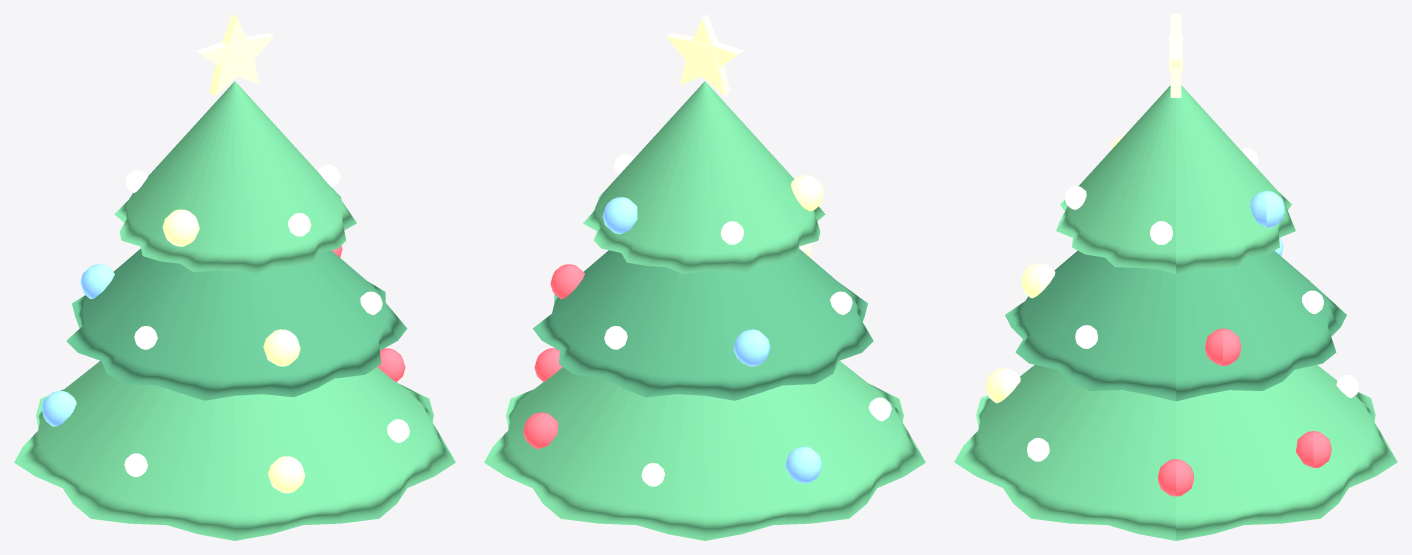
The model's file is tree-night.glb.
3 views of the same model, side by side, from view 1: azimuth 30°, elevation 25°; view 2: azimuth 150°, elevation 25°; view 3: azimuth 270°, elevation 25° (orthographic).
Size of the model in its own units: 1.27 by 1.59 by 1.29.
